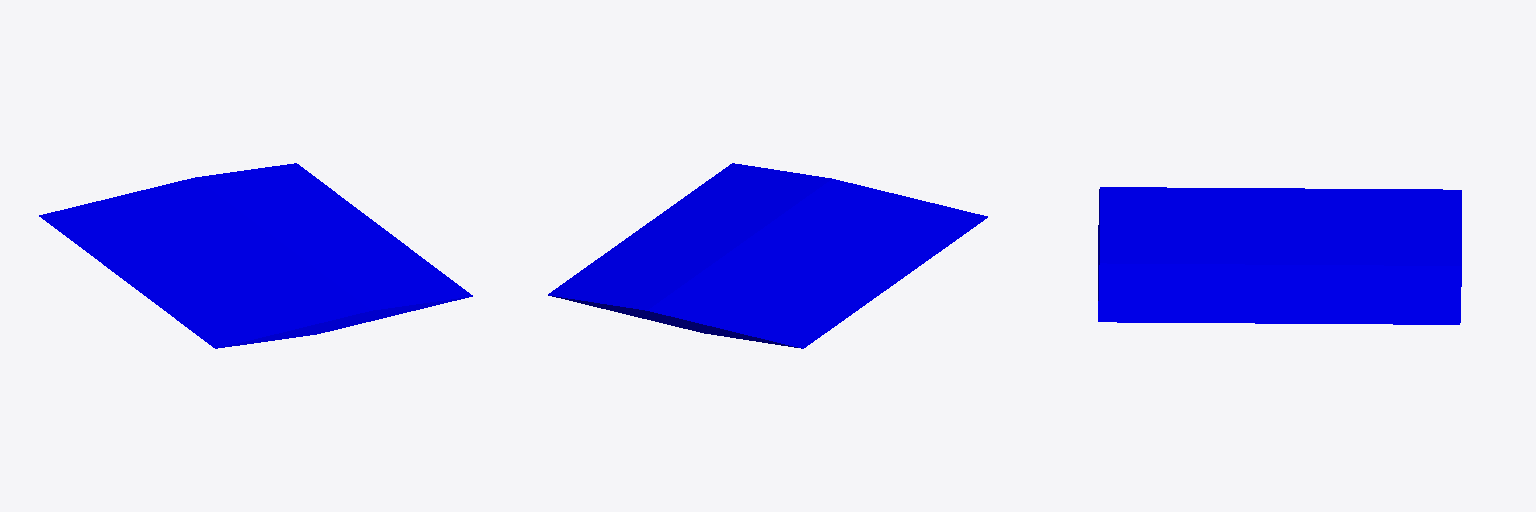
File: planes_1-dynamic - BLK2GO-3630355-Scan 080 41.obj
The picture shows the model from 3 angles: view 1: azimuth 30°, elevation 25°; view 2: azimuth 150°, elevation 25°; view 3: azimuth 270°, elevation 25°; orthographic projection.
Parts seen in each view (by area): view 1: 1-dynamic_-_BLK2GO-[number redacted]-Scan_080_41_0; view 2: 1-dynamic_-_BLK2GO-[number redacted]-Scan_080_41_0; view 3: 1-dynamic_-_BLK2GO-[number redacted]-Scan_080_41_0.
Boxes of the visible parts, <box> form: 1-dynamic_-_BLK2GO-[number redacted]-Scan_080_41_0: <box>39,163,472,348</box>; 1-dynamic_-_BLK2GO-[number redacted]-Scan_080_41_0: <box>548,163,987,348</box>; 1-dynamic_-_BLK2GO-[number redacted]-Scan_080_41_0: <box>1098,187,1461,324</box>.
Size of the model in its own units: 1.69 by 0.0625 by 2.03.